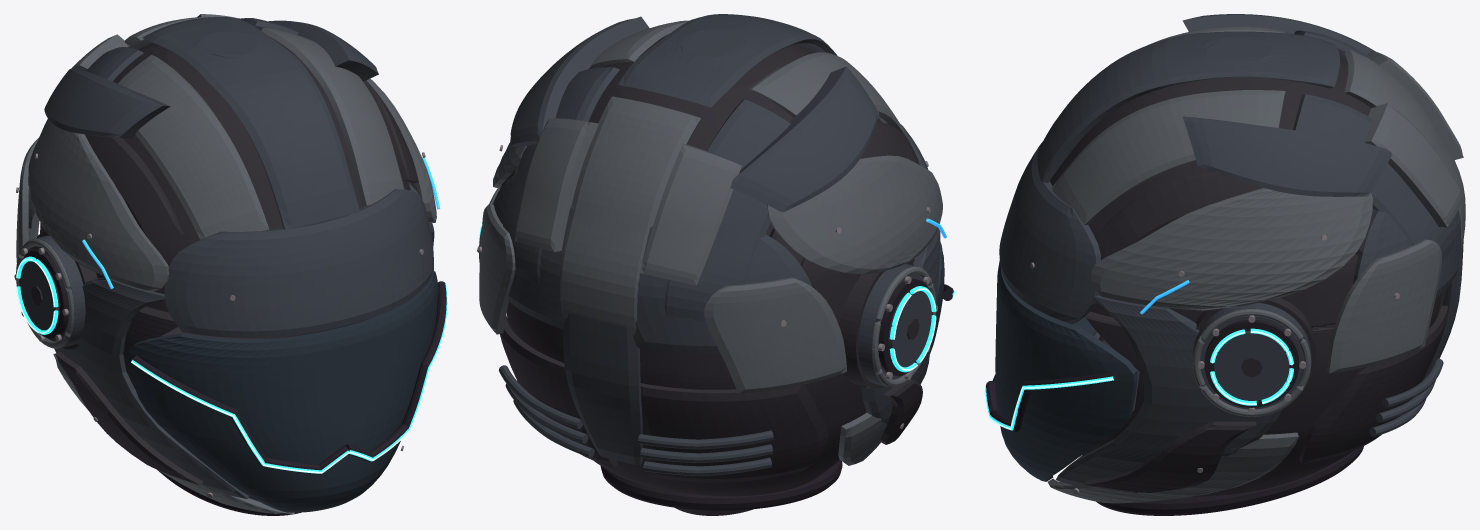
Rendered from casque_LYLU_anime.glb.
3 views of the same model, side by side, from view 1: azimuth 30°, elevation 25°; view 2: azimuth 150°, elevation 25°; view 3: azimuth 270°, elevation 25° (orthographic). The views are drawn at different scales.
Visible parts, largest first — view 1: 09 - masque facial inférieur, 10 - frontière faciale haute, 02 - crête centrale avant, 04 - plaque de calotte avant G, 12 - arcade de tempe G, 11 - joue blindée G, 01 - coque interne, 04 - plaque de calotte avant D, 07 - lame supérieure flottante G, 06 - rail latéral supérieur G, 16 - insert mandibule G, 07 - lame supérieure flottante D (+16 smaller); view 2: 03 - crête centrale arrière, 01 - coque interne, 12 - arcade de tempe G, 14 - plaque de tempe arrière G, 17 - nuque segmentée G, 07 - lame supérieure flottante G, 02 - crête centrale avant, 33 - colonne occipitale, 05 - écaille de calotte arrière G, 08 - ailette dorsale G, 08 - ailette dorsale D, 13 - protection occipitale haute G (+24 smaller); view 3: 12 - arcade de tempe D, 09 - masque facial inférieur, 01 - coque interne, 02 - crête centrale avant, 11 - joue blindée D, 04 - plaque de calotte avant D, 07 - lame supérieure flottante D, 10 - frontière faciale haute, 14 - plaque de tempe arrière D, 17 - nuque segmentée D, 05 - écaille de calotte arrière D, 08 - ailette dorsale D (+18 smaller).
Part boxes in pixels (x1,y1,x2,y2): 09 - masque facial inférieur: (127, 271, 438, 512); 10 - frontière faciale haute: (164, 189, 433, 337); 02 - crête centrale avant: (142, 17, 359, 230); 04 - plaque de calotte avant G: (118, 55, 268, 239); 12 - arcade de tempe G: (29, 119, 169, 291); 11 - joue blindée G: (56, 277, 248, 498); 01 - coque interne: (40, 37, 410, 501); 04 - plaque de calotte avant D: (261, 27, 404, 205); 07 - lame supérieure flottante G: (44, 67, 170, 138); 06 - rail latéral supérieur G: (85, 134, 183, 245); 16 - insert mandibule G: (55, 352, 203, 485); 07 - lame supérieure flottante D: (268, 20, 378, 81); 03 - crête centrale arrière: (559, 96, 701, 335); 01 - coque interne: (506, 37, 914, 515); 12 - arcade de tempe G: (767, 155, 942, 274); 14 - plaque de tempe arrière G: (704, 277, 846, 393); 17 - nuque segmentée G: (640, 383, 828, 482); 07 - lame supérieure flottante G: (730, 66, 879, 212); 02 - crête centrale avant: (618, 14, 837, 107); 33 - colonne occipitale: (563, 313, 642, 465); 05 - écaille de calotte arrière G: (664, 99, 790, 320); 08 - ailette dorsale G: (640, 144, 741, 285); 08 - ailette dorsale D: (515, 118, 598, 251); 13 - protection occipitale haute G: (633, 226, 812, 353); 12 - arcade de tempe D: (1091, 188, 1372, 310); 09 - masque facial inférieur: (995, 260, 1137, 481); 01 - coque interne: (1050, 59, 1441, 497); 02 - crête centrale avant: (1037, 31, 1339, 182); 11 - joue blindée D: (1056, 295, 1282, 486); 04 - plaque de calotte avant D: (1051, 90, 1285, 225); 07 - lame supérieure flottante D: (1182, 116, 1392, 196); 10 - frontière faciale haute: (999, 142, 1100, 324); 14 - plaque de tempe arrière D: (1327, 239, 1441, 373); 17 - nuque segmentée D: (1299, 305, 1448, 464); 05 - écaille de calotte arrière D: (1293, 94, 1454, 261); 08 - ailette dorsale D: (1364, 103, 1463, 227).
Bounding box in the file's own units: 0.308 × 0.3263 × 0.3216.
